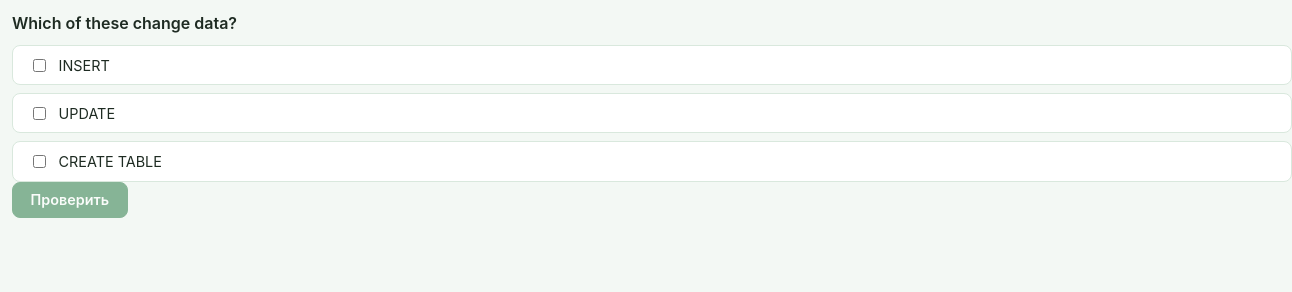
Test: QuizView with a multi-select quiz › marks a wrong inclusion with its explanation, leaves unchosen options untouched and records nothing
Click the checkbox labelled "INSERT". click: (40, 65)
box: [33, 59, 46, 72]
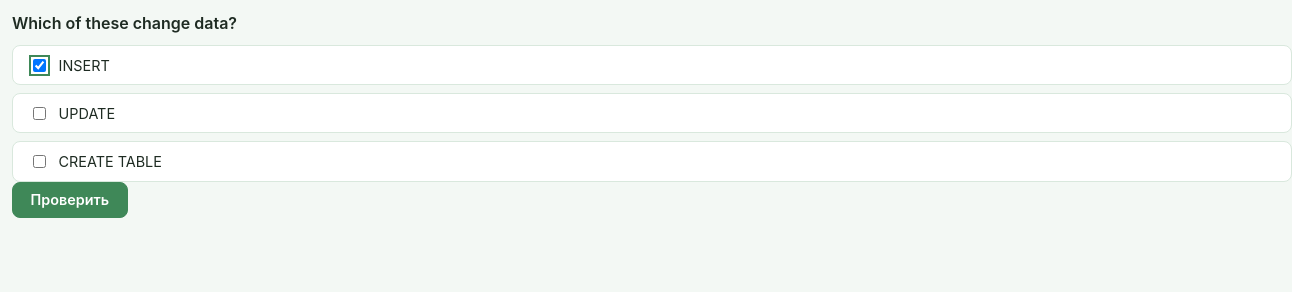
Click the checkbox labelled "CREATE TABLE". click: (40, 162)
box: [33, 155, 46, 168]
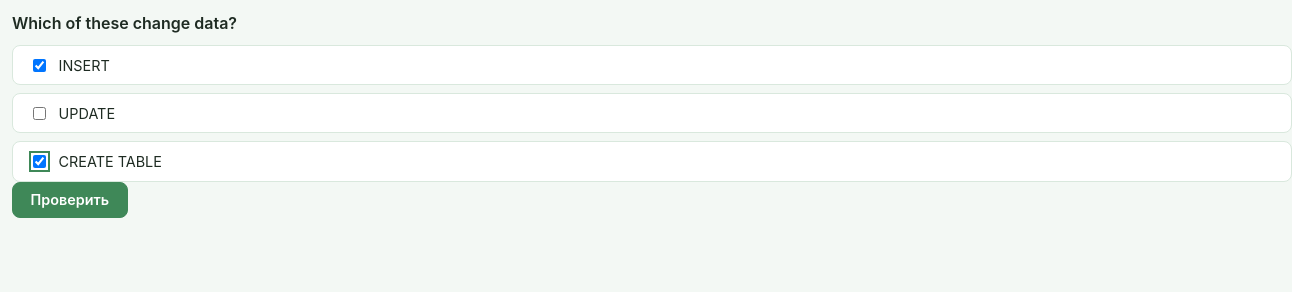
Click the button "Проверить". click: (70, 200)
box: [12, 182, 128, 218]
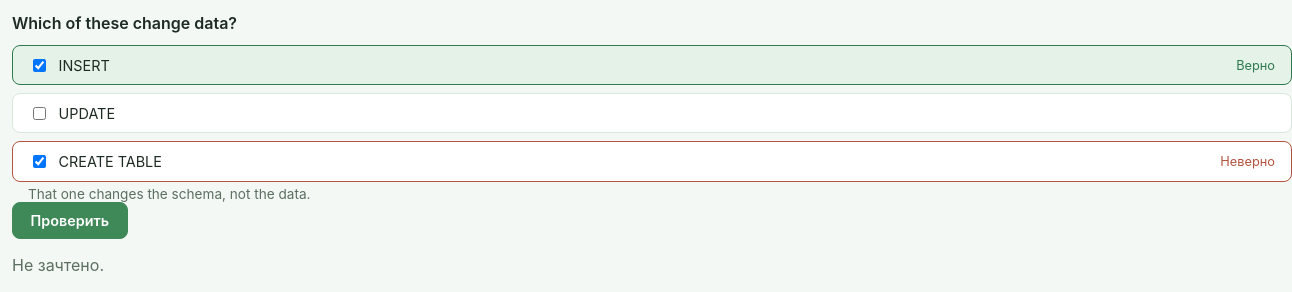
Expected: the text "Неверно" is shown, [1220, 154, 1275, 169]
Expected: the text "Верно" is shown, [1236, 58, 1275, 73]
Expected: the text "That one changes the schema, not the data." is shown, [28, 186, 310, 202]
